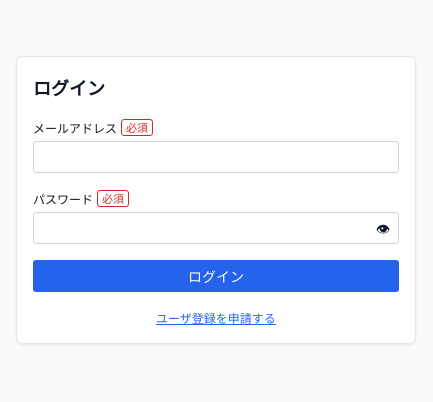
LoginPage › ロック中_423はロックメッセージを表示する
Type "user@example.com" into the field labelled "メールアドレス 必須" at {"x": 216, "y": 157}, box [33,141,399,173]
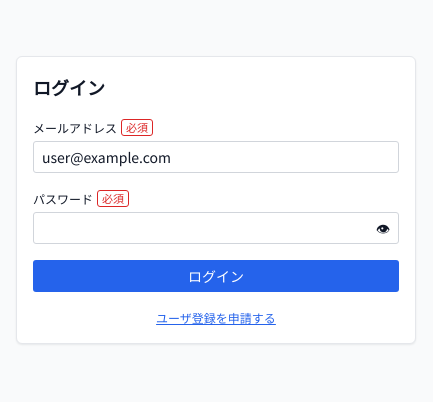
Type "correct-password" into the password field named "パスワード必須" at {"x": 216, "y": 228}, box [33,212,399,244]
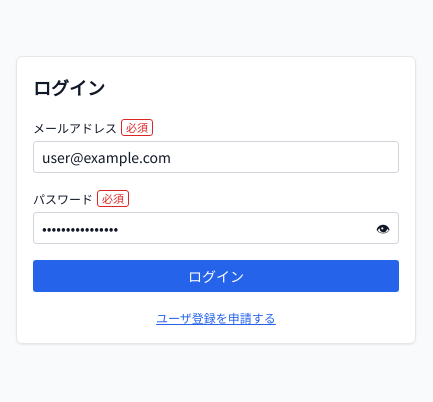
Click the button "ログイン" at {"x": 216, "y": 276}, box [33,260,399,292]
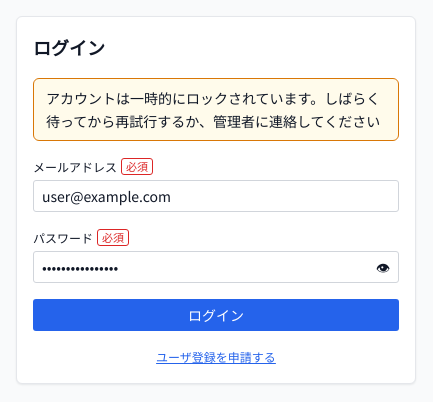
Now the text "アカウントは一時的にロックされています。しばらく待ってから再試行するか、管理者に連絡してください" is shown, box [33,78,399,141]
